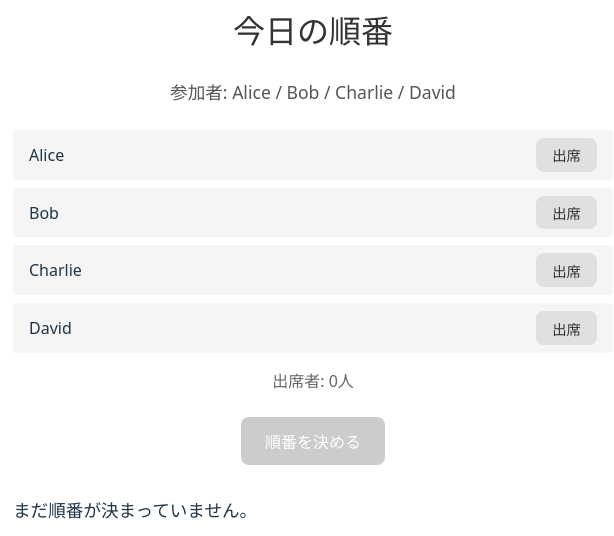
Scenario: App › 出席登録機能 › 出席状態のボタンを再クリックすると未出席になる
The image size is (614, 536).
Click the 1st button "出席".
click(567, 155)  # box [536, 138, 597, 172]
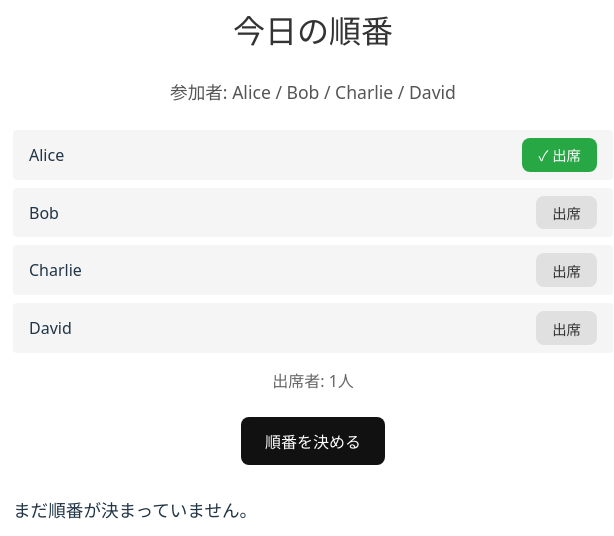
Click the button "✓ 出席".
click(560, 155)  # box [522, 138, 597, 172]
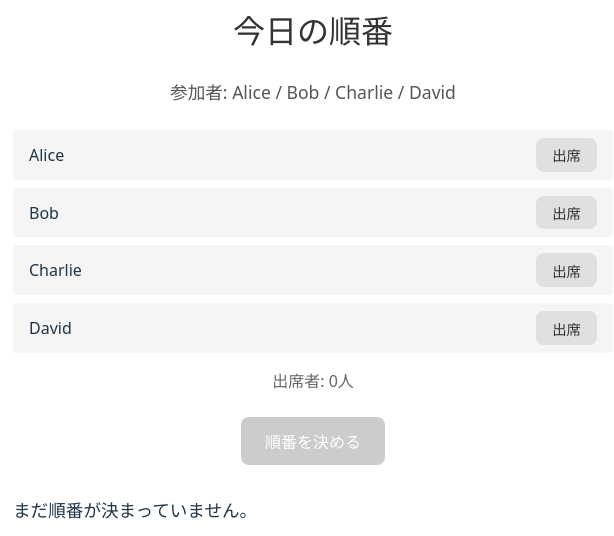
Expected: the text "出席者: 0人" is shown, [272, 370, 354, 392]
Expected: the button "✓ 出席" is gone
